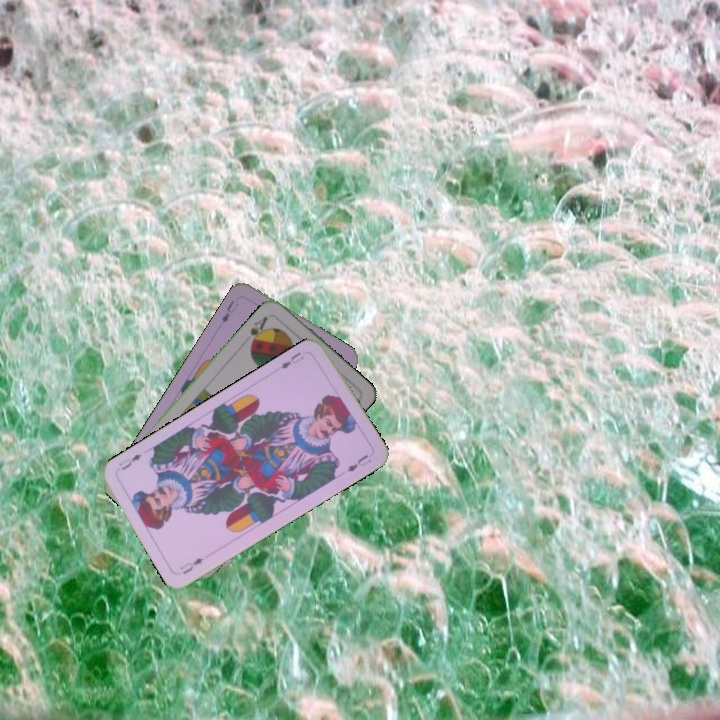EU: (276, 348, 307, 372), (217, 296, 241, 326), (176, 554, 206, 577)
SA: (246, 311, 273, 348)
